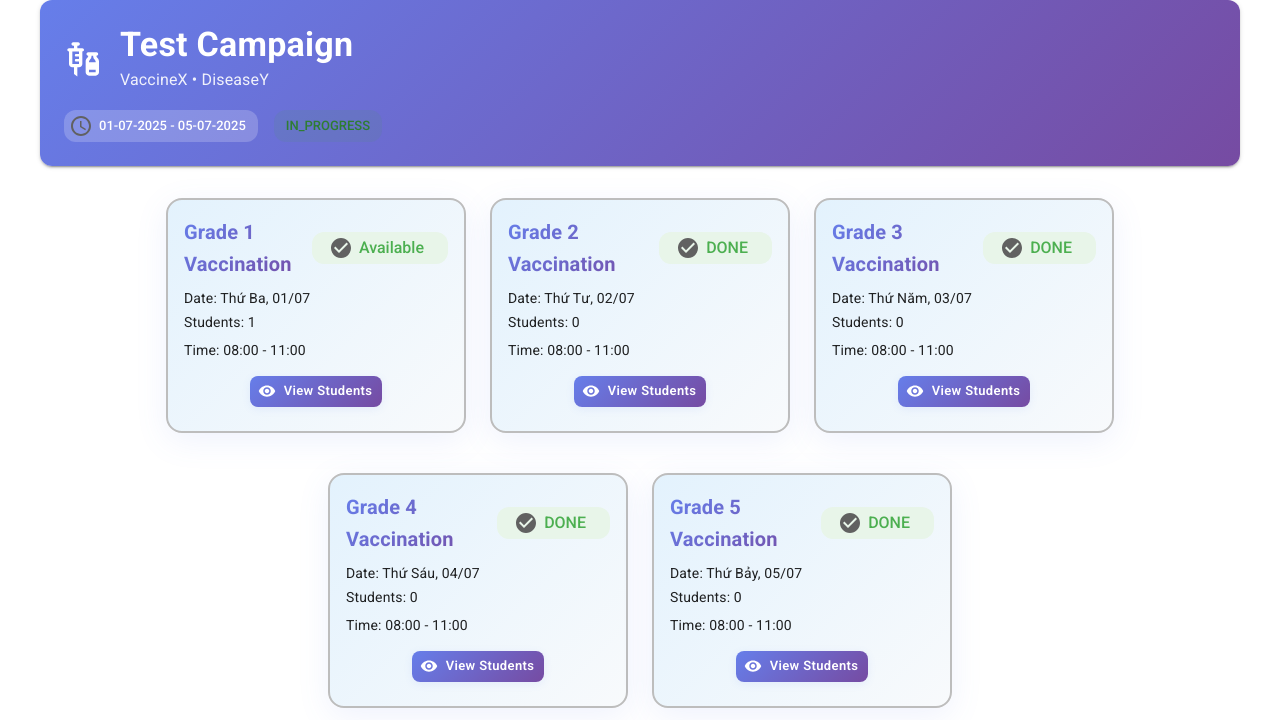
Test: VaccinationScheduleForm › State update: clicking View Students shows injected list
Click the 1st button "View Students" at (316, 391), box [250, 376, 382, 407]
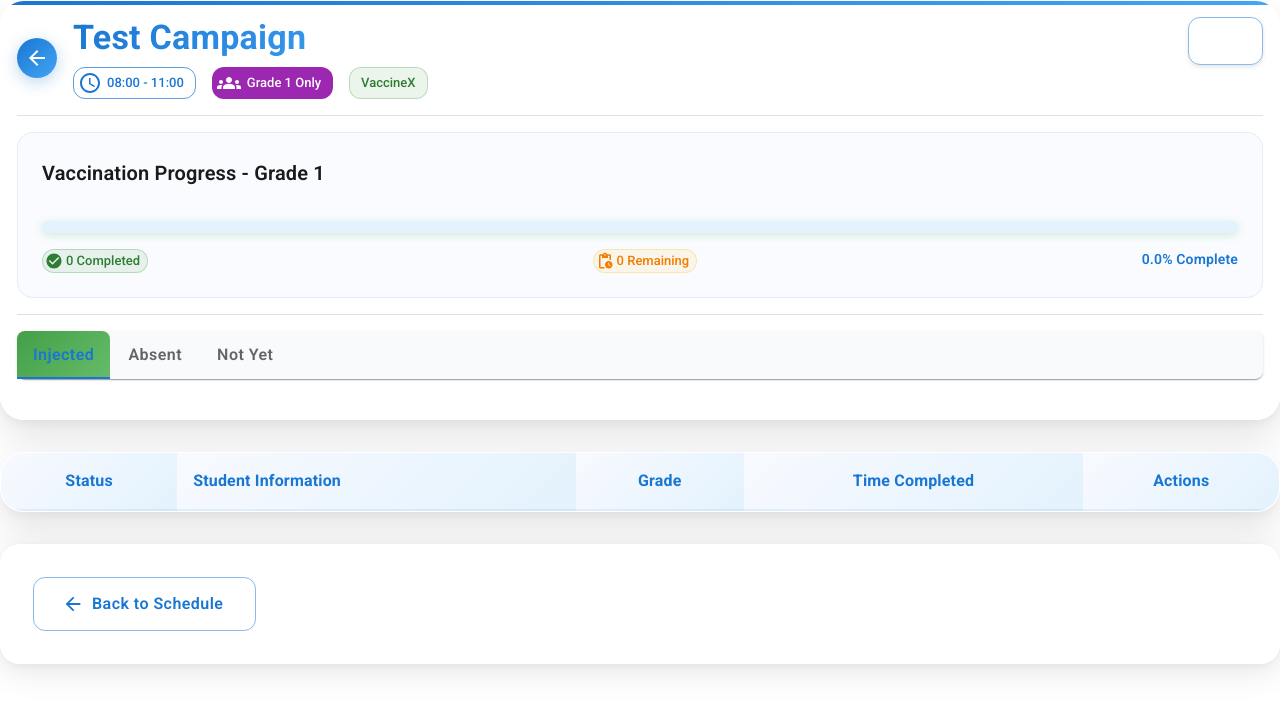
Expected: the button "Back to Schedule" is shown, [33, 577, 256, 631]
